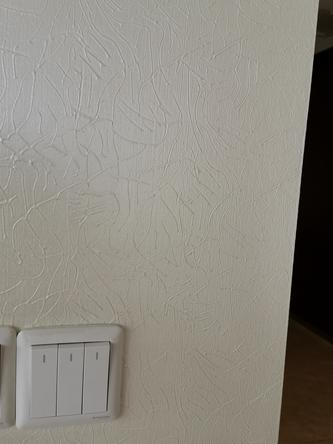switch: (78, 338, 112, 416), (28, 342, 60, 420), (54, 342, 87, 417)
